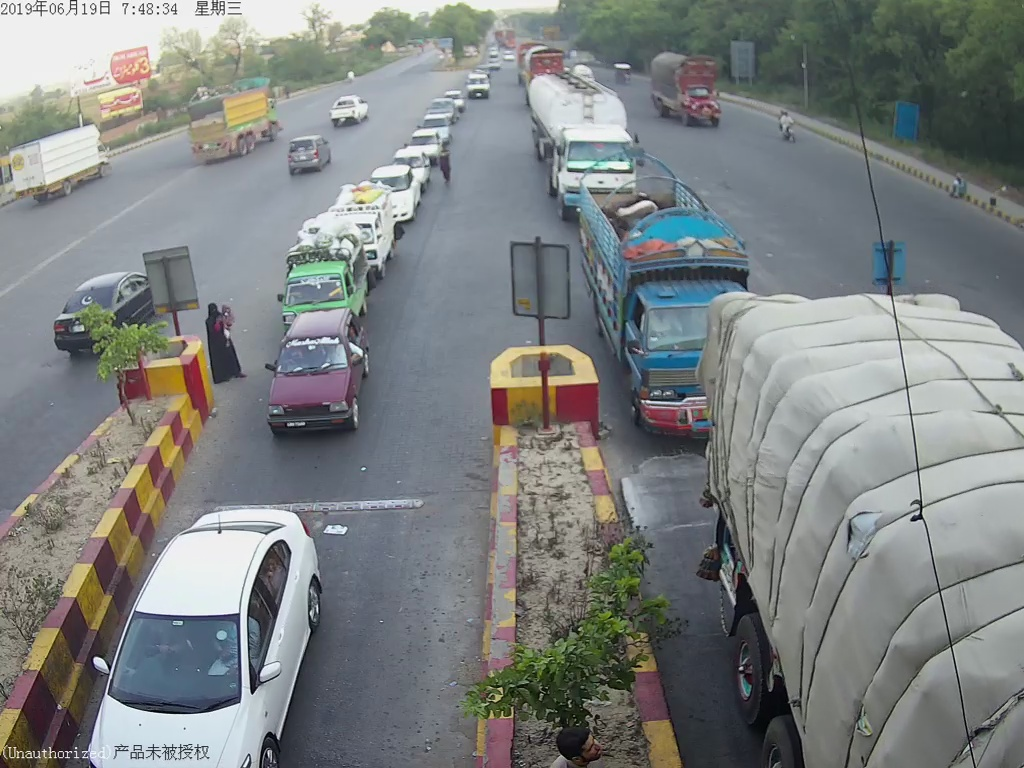Cat-1: (261, 308, 372, 433), (286, 220, 361, 322), (340, 187, 400, 279)
Cat-2: (578, 156, 752, 423)
Cat-5: (526, 67, 637, 213)
